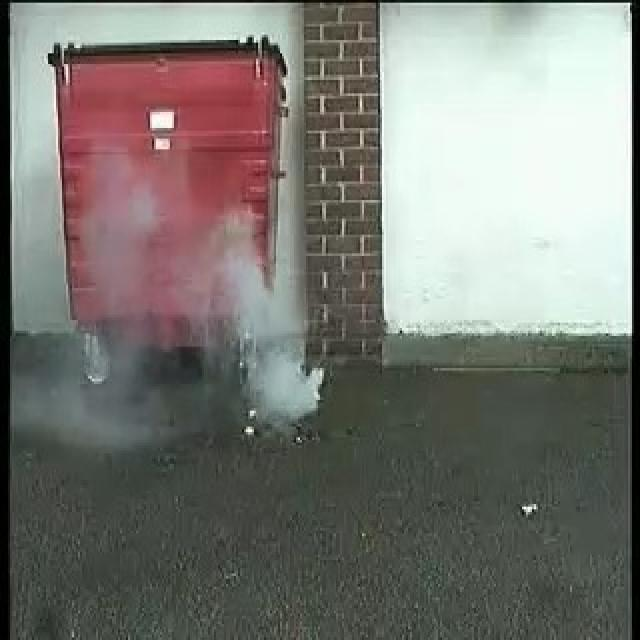Smoke: (110, 194, 325, 416)
